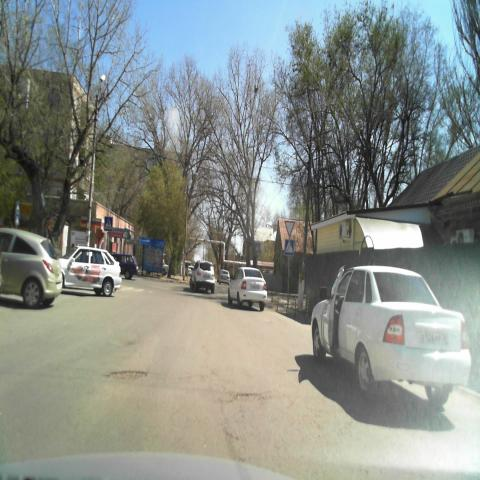2_4: (283, 219, 295, 237)
5_19_1: (283, 238, 294, 255), (104, 216, 112, 230), (255, 243, 260, 252)
